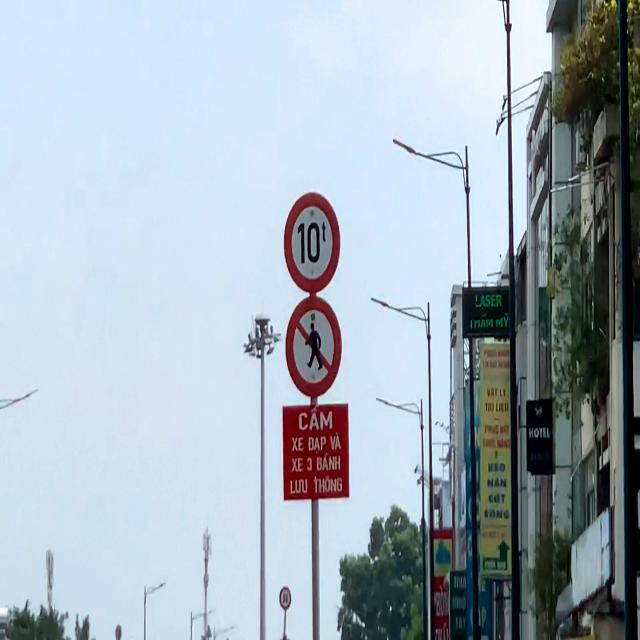P.112: (285, 294, 345, 396)
P.115: (284, 191, 339, 293)
